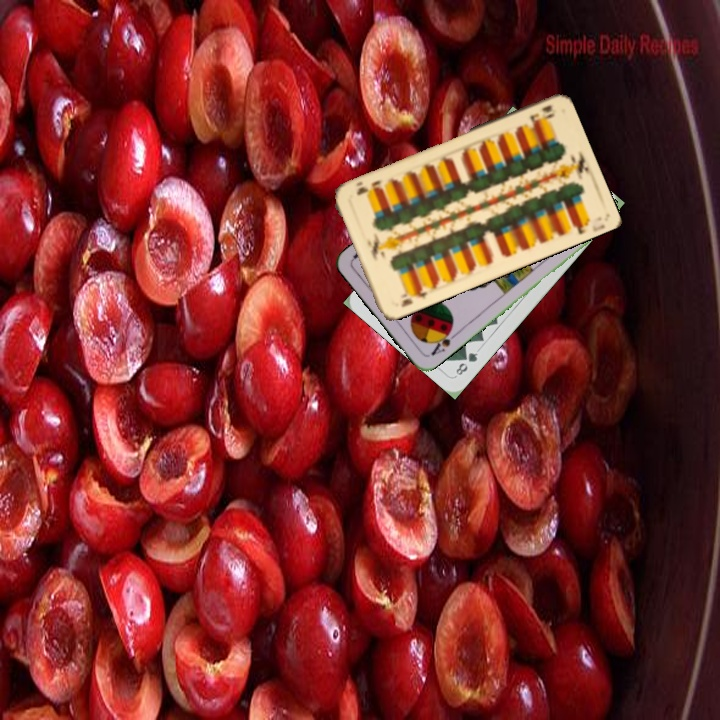E10: (396, 283, 430, 310), (526, 101, 557, 127)
G8: (451, 348, 481, 378)
SA: (427, 324, 460, 359)
